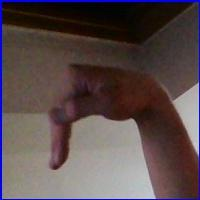A: (42, 58, 172, 180)
